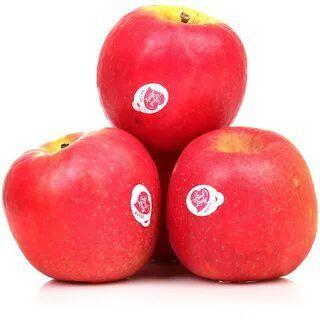Apple: (3, 128, 163, 282), (167, 127, 319, 280), (96, 7, 246, 149)
